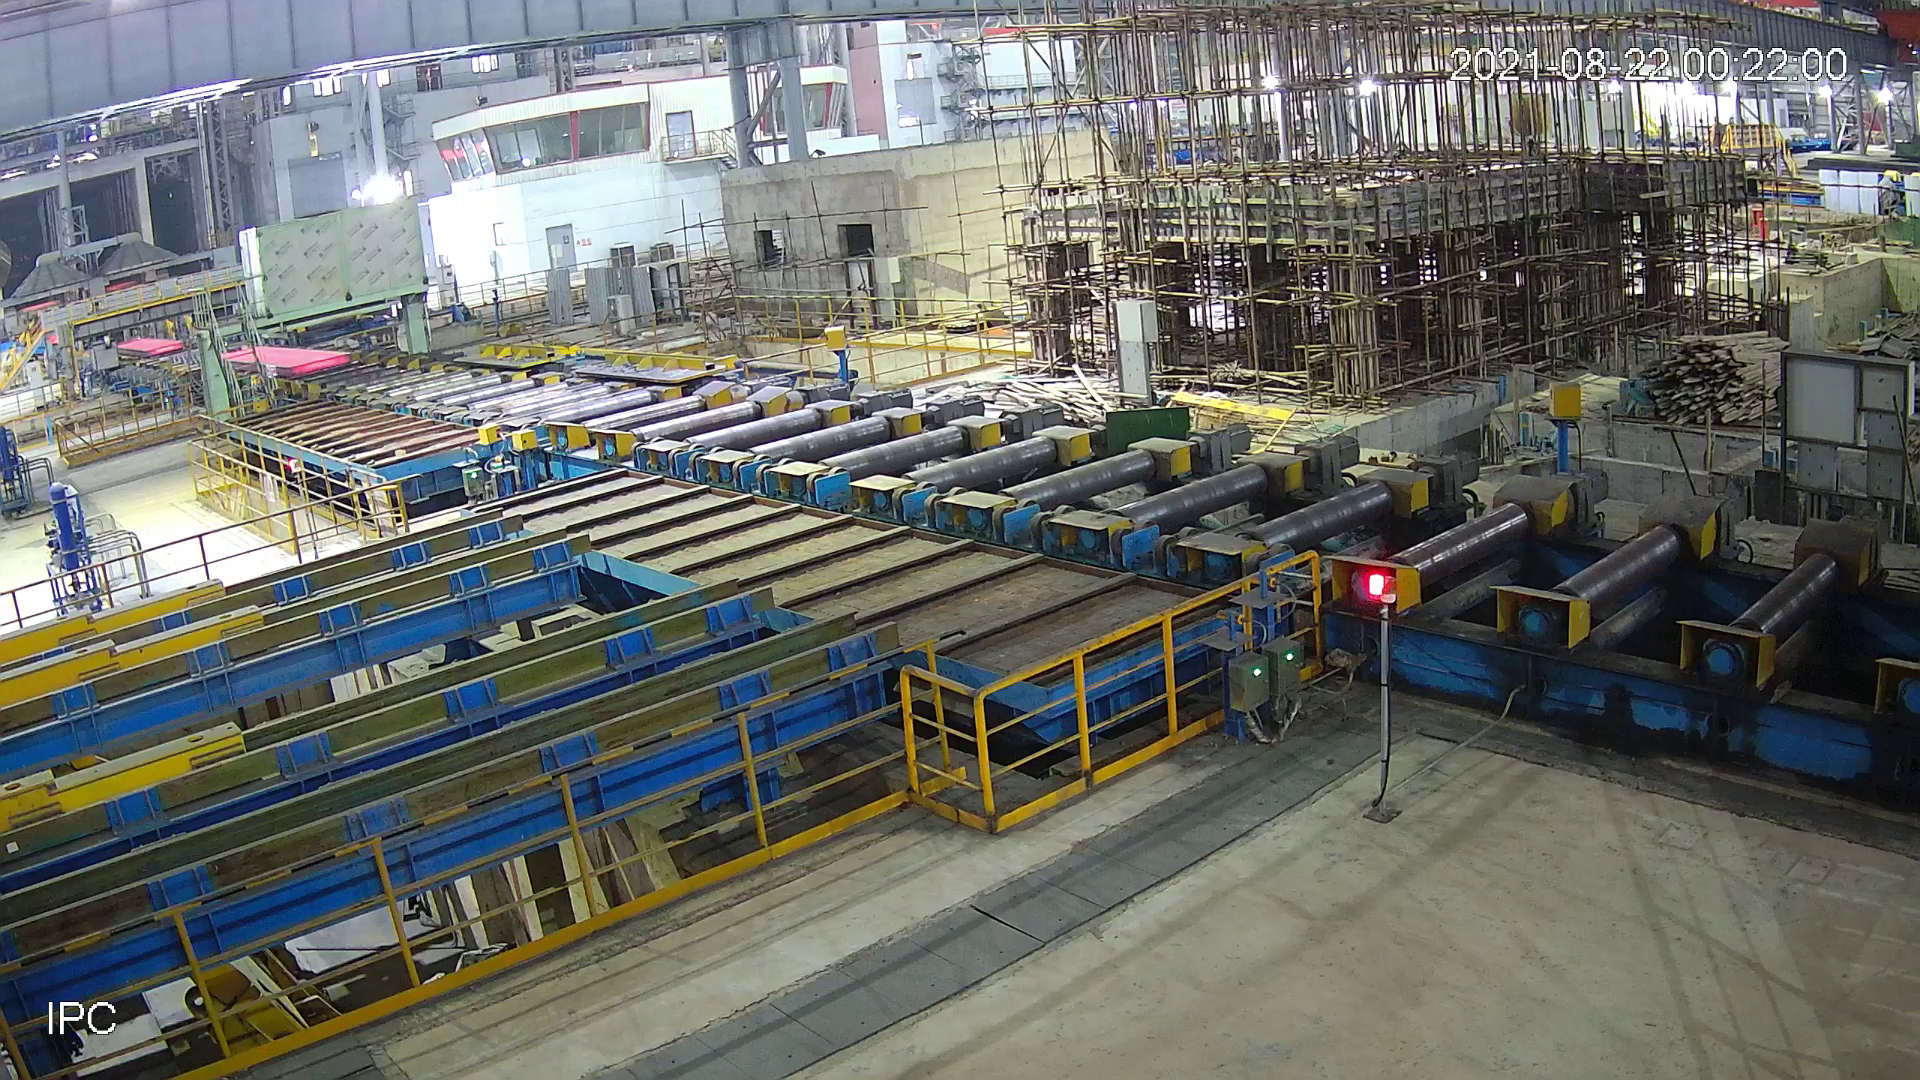slab: (220, 342, 356, 380), (115, 332, 186, 360)
